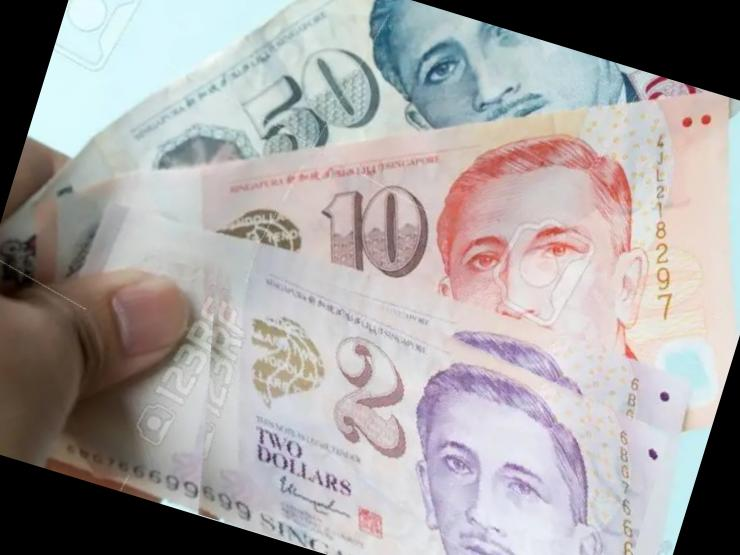2SingaporeDollar: (139, 233, 687, 555)
